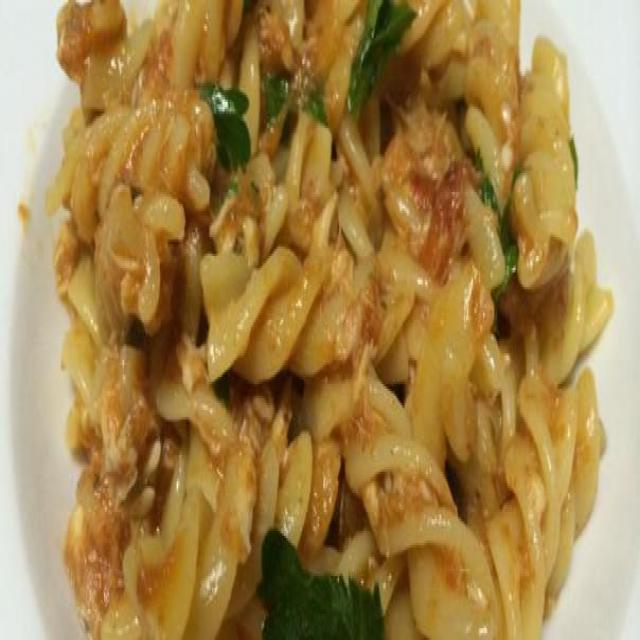Pasta al ragu: (47, 10, 611, 617)
